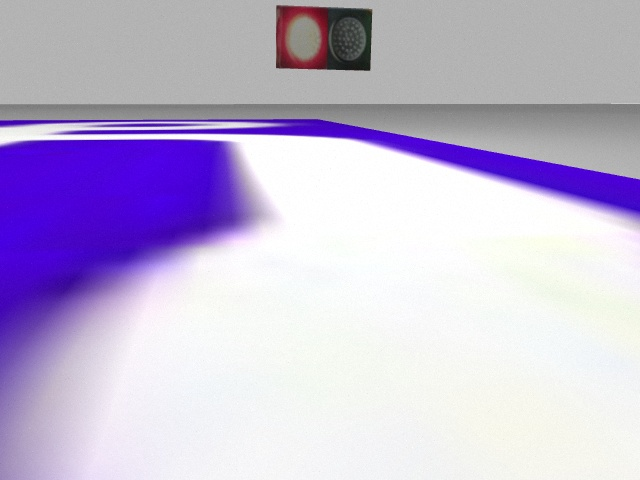red: (276, 5, 327, 69)
